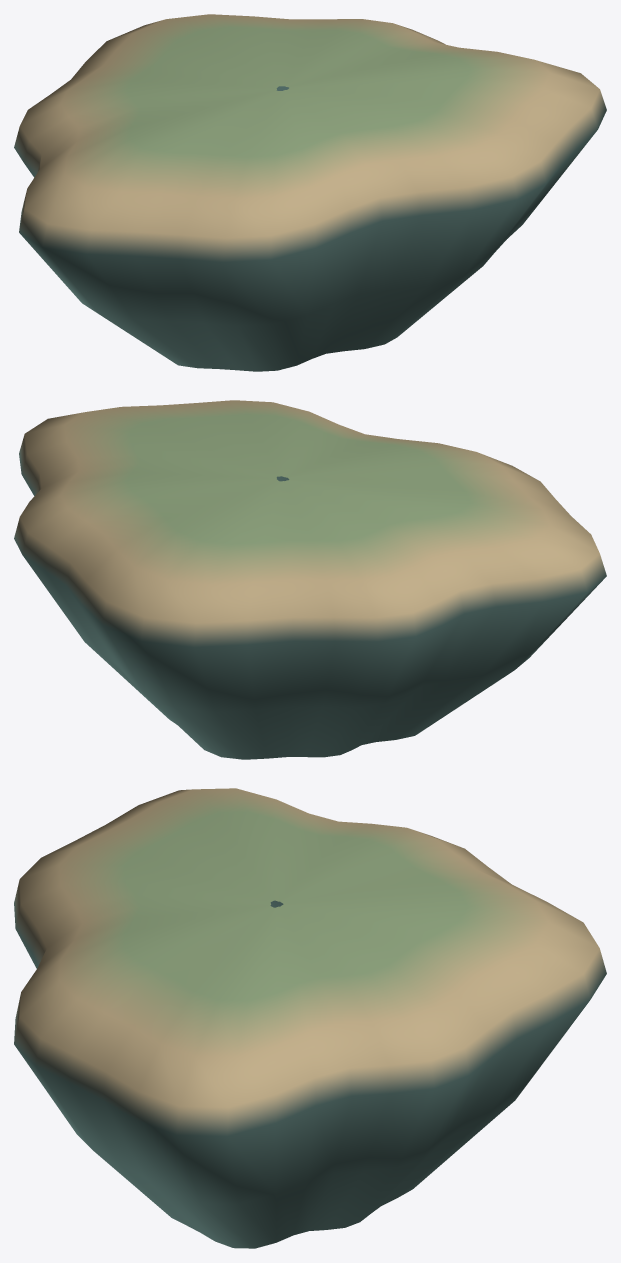
Rendered from island.glb.
3 renders of one model, top to bottom at view 1: azimuth 30°, elevation 25°; view 2: azimuth 150°, elevation 25°; view 3: azimuth 270°, elevation 25°, orthographic. The views are drawn at different scales.
Visible parts, largest first — view 1: island_painted_mesh; view 2: island_painted_mesh; view 3: island_painted_mesh.
Part boxes in pixels (x1,y1,x2,y2): island_painted_mesh: [14, 14, 606, 371]; island_painted_mesh: [14, 400, 606, 759]; island_painted_mesh: [14, 788, 606, 1248].
Size of the model in its own units: 3.01 by 1.18 by 2.32.
